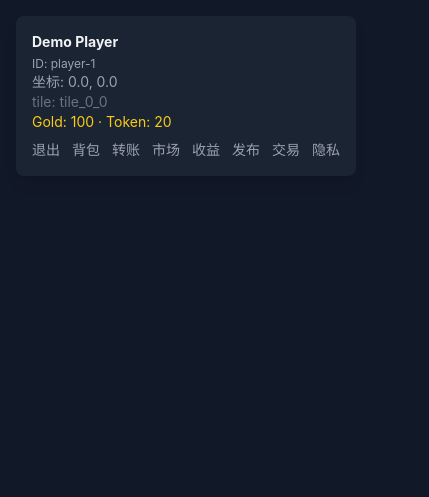
Test: PlayerHUD inventory › shows creator works and takes down live templates
Click the button "发布" at (246, 150), box [232,140,260,160]
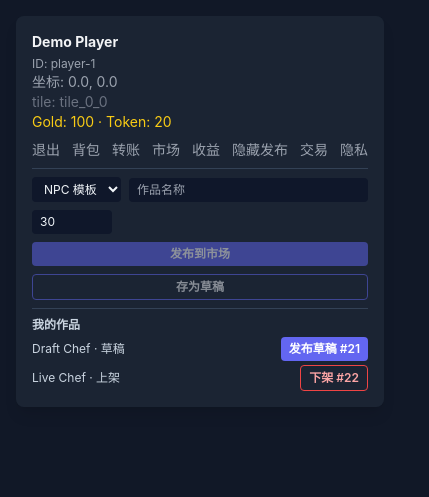
Click the button "下架 #22" at (334, 378), box [300,365,368,391]
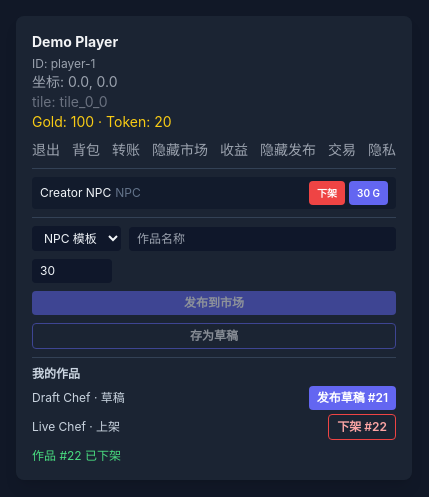
Expected: the text "作品 #22 已下架" is shown, [32,448,121,463]
